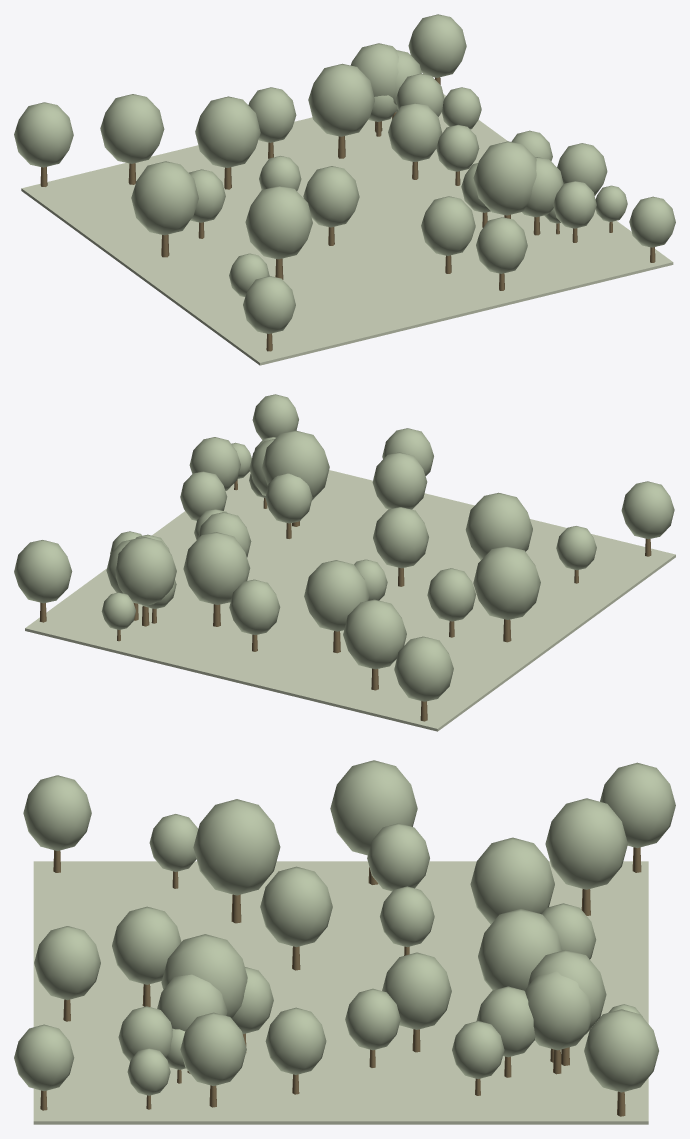
The picture shows the model from 3 angles, top to bottom: view 1: azimuth 30°, elevation 25°; view 2: azimuth 150°, elevation 25°; view 3: azimuth 270°, elevation 25°; orthographic projection. The views are drawn at different scales.
Visible parts, largest first — view 1: terrain, lod-near-23, lod-near-21, lod-near-17, lod-near-27, lod-near-29, lod-near-28, lod-near-0, lod-near-19, lod-near-10, lod-near-9, lod-near-15 (+19 smaller); view 2: terrain, lod-near-23, lod-near-17, lod-near-28, lod-near-29, lod-near-5, lod-near-21, lod-near-0, lod-near-27, lod-near-19, lod-near-10, lod-near-9 (+13 smaller); view 3: terrain, lod-near-21, lod-near-28, lod-near-23, lod-near-29, lod-near-19, lod-near-17, lod-near-10, lod-near-0, lod-near-14, lod-near-9, lod-near-13 (+18 smaller).
Boxes of the visible parts, x1,y1,x2,y2 form: terrain: [21, 94, 673, 365]; lod-near-23: [131, 161, 198, 235]; lod-near-21: [245, 185, 312, 259]; lod-near-17: [308, 63, 374, 136]; lod-near-27: [473, 141, 536, 215]; lod-near-29: [195, 96, 260, 167]; lod-near-28: [100, 94, 164, 163]; lod-near-0: [14, 102, 73, 167]; lod-near-19: [408, 14, 466, 77]; lod-near-10: [303, 166, 359, 227]; lod-near-9: [421, 196, 475, 255]; lod-near-15: [388, 103, 442, 161]; terrain: [25, 470, 675, 731]; lod-near-23: [473, 546, 540, 619]; lod-near-17: [183, 532, 250, 604]; lod-near-28: [343, 599, 406, 669]; lod-near-29: [304, 560, 369, 631]; lod-near-5: [115, 537, 176, 605]; lod-near-21: [465, 492, 532, 559]; lod-near-0: [394, 636, 453, 701]; lod-near-27: [262, 430, 329, 500]; lod-near-19: [14, 540, 72, 603]; lod-near-10: [373, 507, 428, 568]; lod-near-9: [372, 452, 427, 509]; terrain: [33, 861, 648, 1124]; lod-near-21: [193, 799, 280, 895]; lod-near-28: [545, 798, 627, 889]; lod-near-23: [330, 760, 417, 855]; lod-near-29: [470, 837, 554, 924]; lod-near-19: [584, 1009, 658, 1092]; lod-near-17: [478, 909, 562, 991]; lod-near-10: [260, 866, 332, 947]; lod-near-0: [600, 762, 675, 848]; lod-near-14: [23, 775, 91, 850]; lod-near-9: [112, 906, 181, 984]; lod-near-13: [525, 971, 592, 1050].
Bounding box in the file's own units: 33.98 × 7.21 × 34.45.
